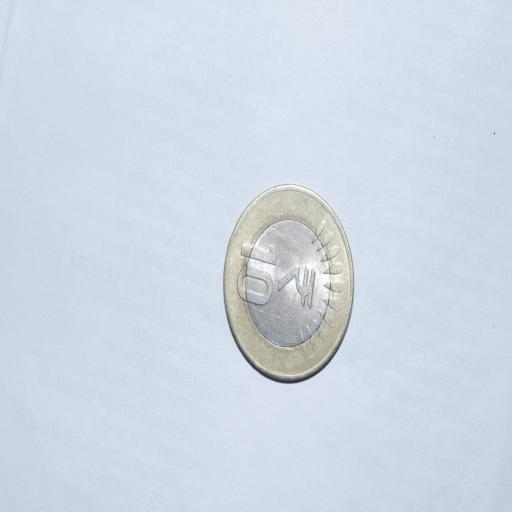rupee10: (222, 183, 355, 383)
